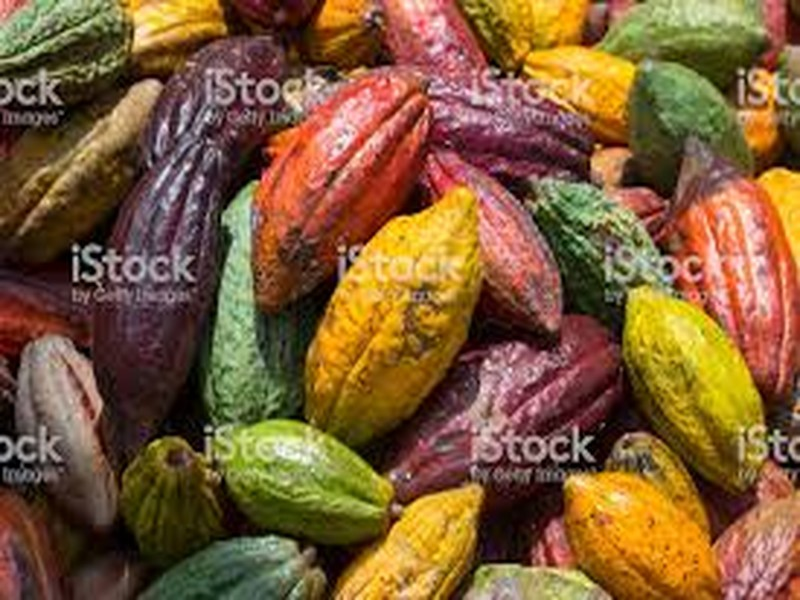Cacaopod: (298, 189, 484, 450)
